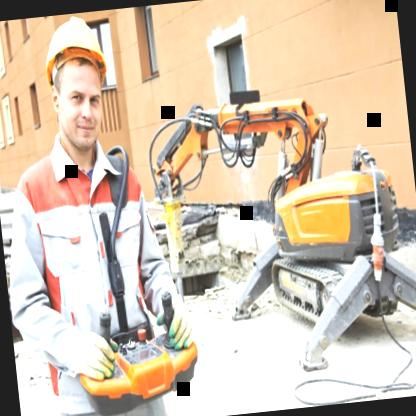helmet: (34, 10, 124, 160)
